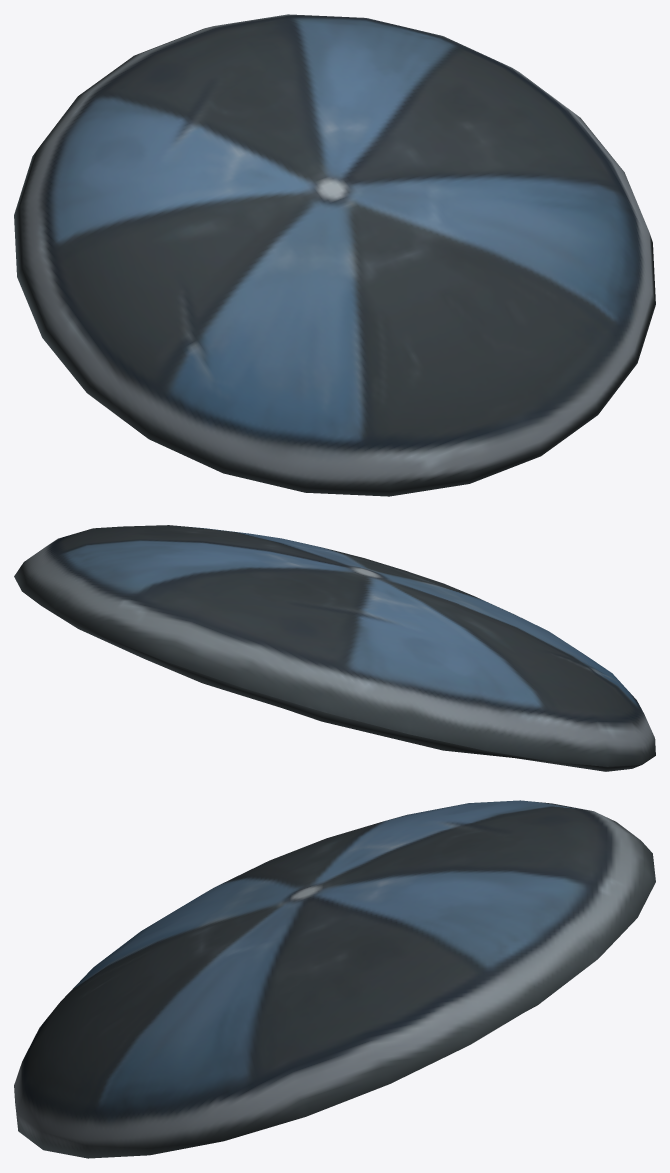
The model's file is dunpai01.fbx.
3 views of the same model, one above another, from view 1: azimuth 30°, elevation 25°; view 2: azimuth 150°, elevation 25°; view 3: azimuth 270°, elevation 25° (orthographic). The views are drawn at different scales.
Parts seen in each view (by area): view 1: dunpai01; view 2: dunpai01; view 3: dunpai01.
Boxes of the visible parts, left/top/right/bottom form: dunpai01: left=14, top=14, right=655, bottom=496; dunpai01: left=14, top=525, right=655, bottom=771; dunpai01: left=14, top=800, right=655, bottom=1158.
Size of the model in its own units: 12.83 by 5.56 by 11.96.
Materials: 1 (1 with a texture image).
